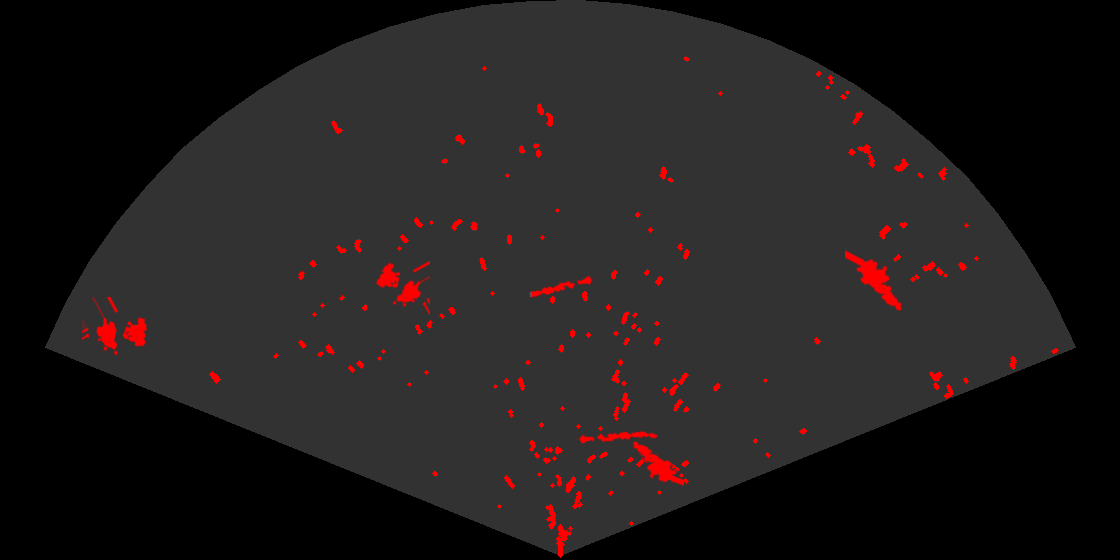cage: (82, 297, 149, 357), (375, 259, 430, 317)
chain: (529, 274, 596, 300), (576, 429, 658, 445)
frogman: (845, 249, 904, 313), (631, 440, 684, 488)
